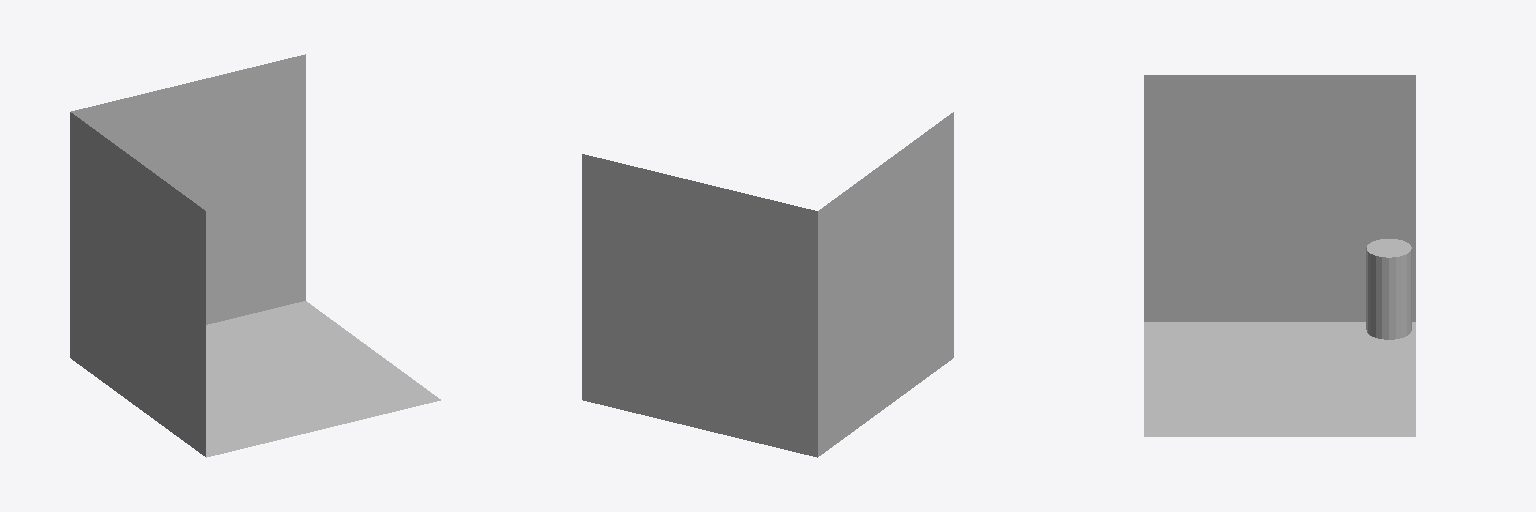
Rendered from open-box.obj.
3 renders of one model, left to right at view 1: azimuth 30°, elevation 25°; view 2: azimuth 150°, elevation 25°; view 3: azimuth 270°, elevation 25°, orthographic.
Parts seen in each view (by area): view 1: box; view 2: box; view 3: box, cylinder.
Part boxes in pixels (x1,y1,x2,y2): box: (70, 54, 440, 457); box: (582, 112, 953, 457); box: (1144, 75, 1415, 436); cylinder: (1366, 239, 1411, 339).
Size of the model in its own units: 6 by 6 by 6.